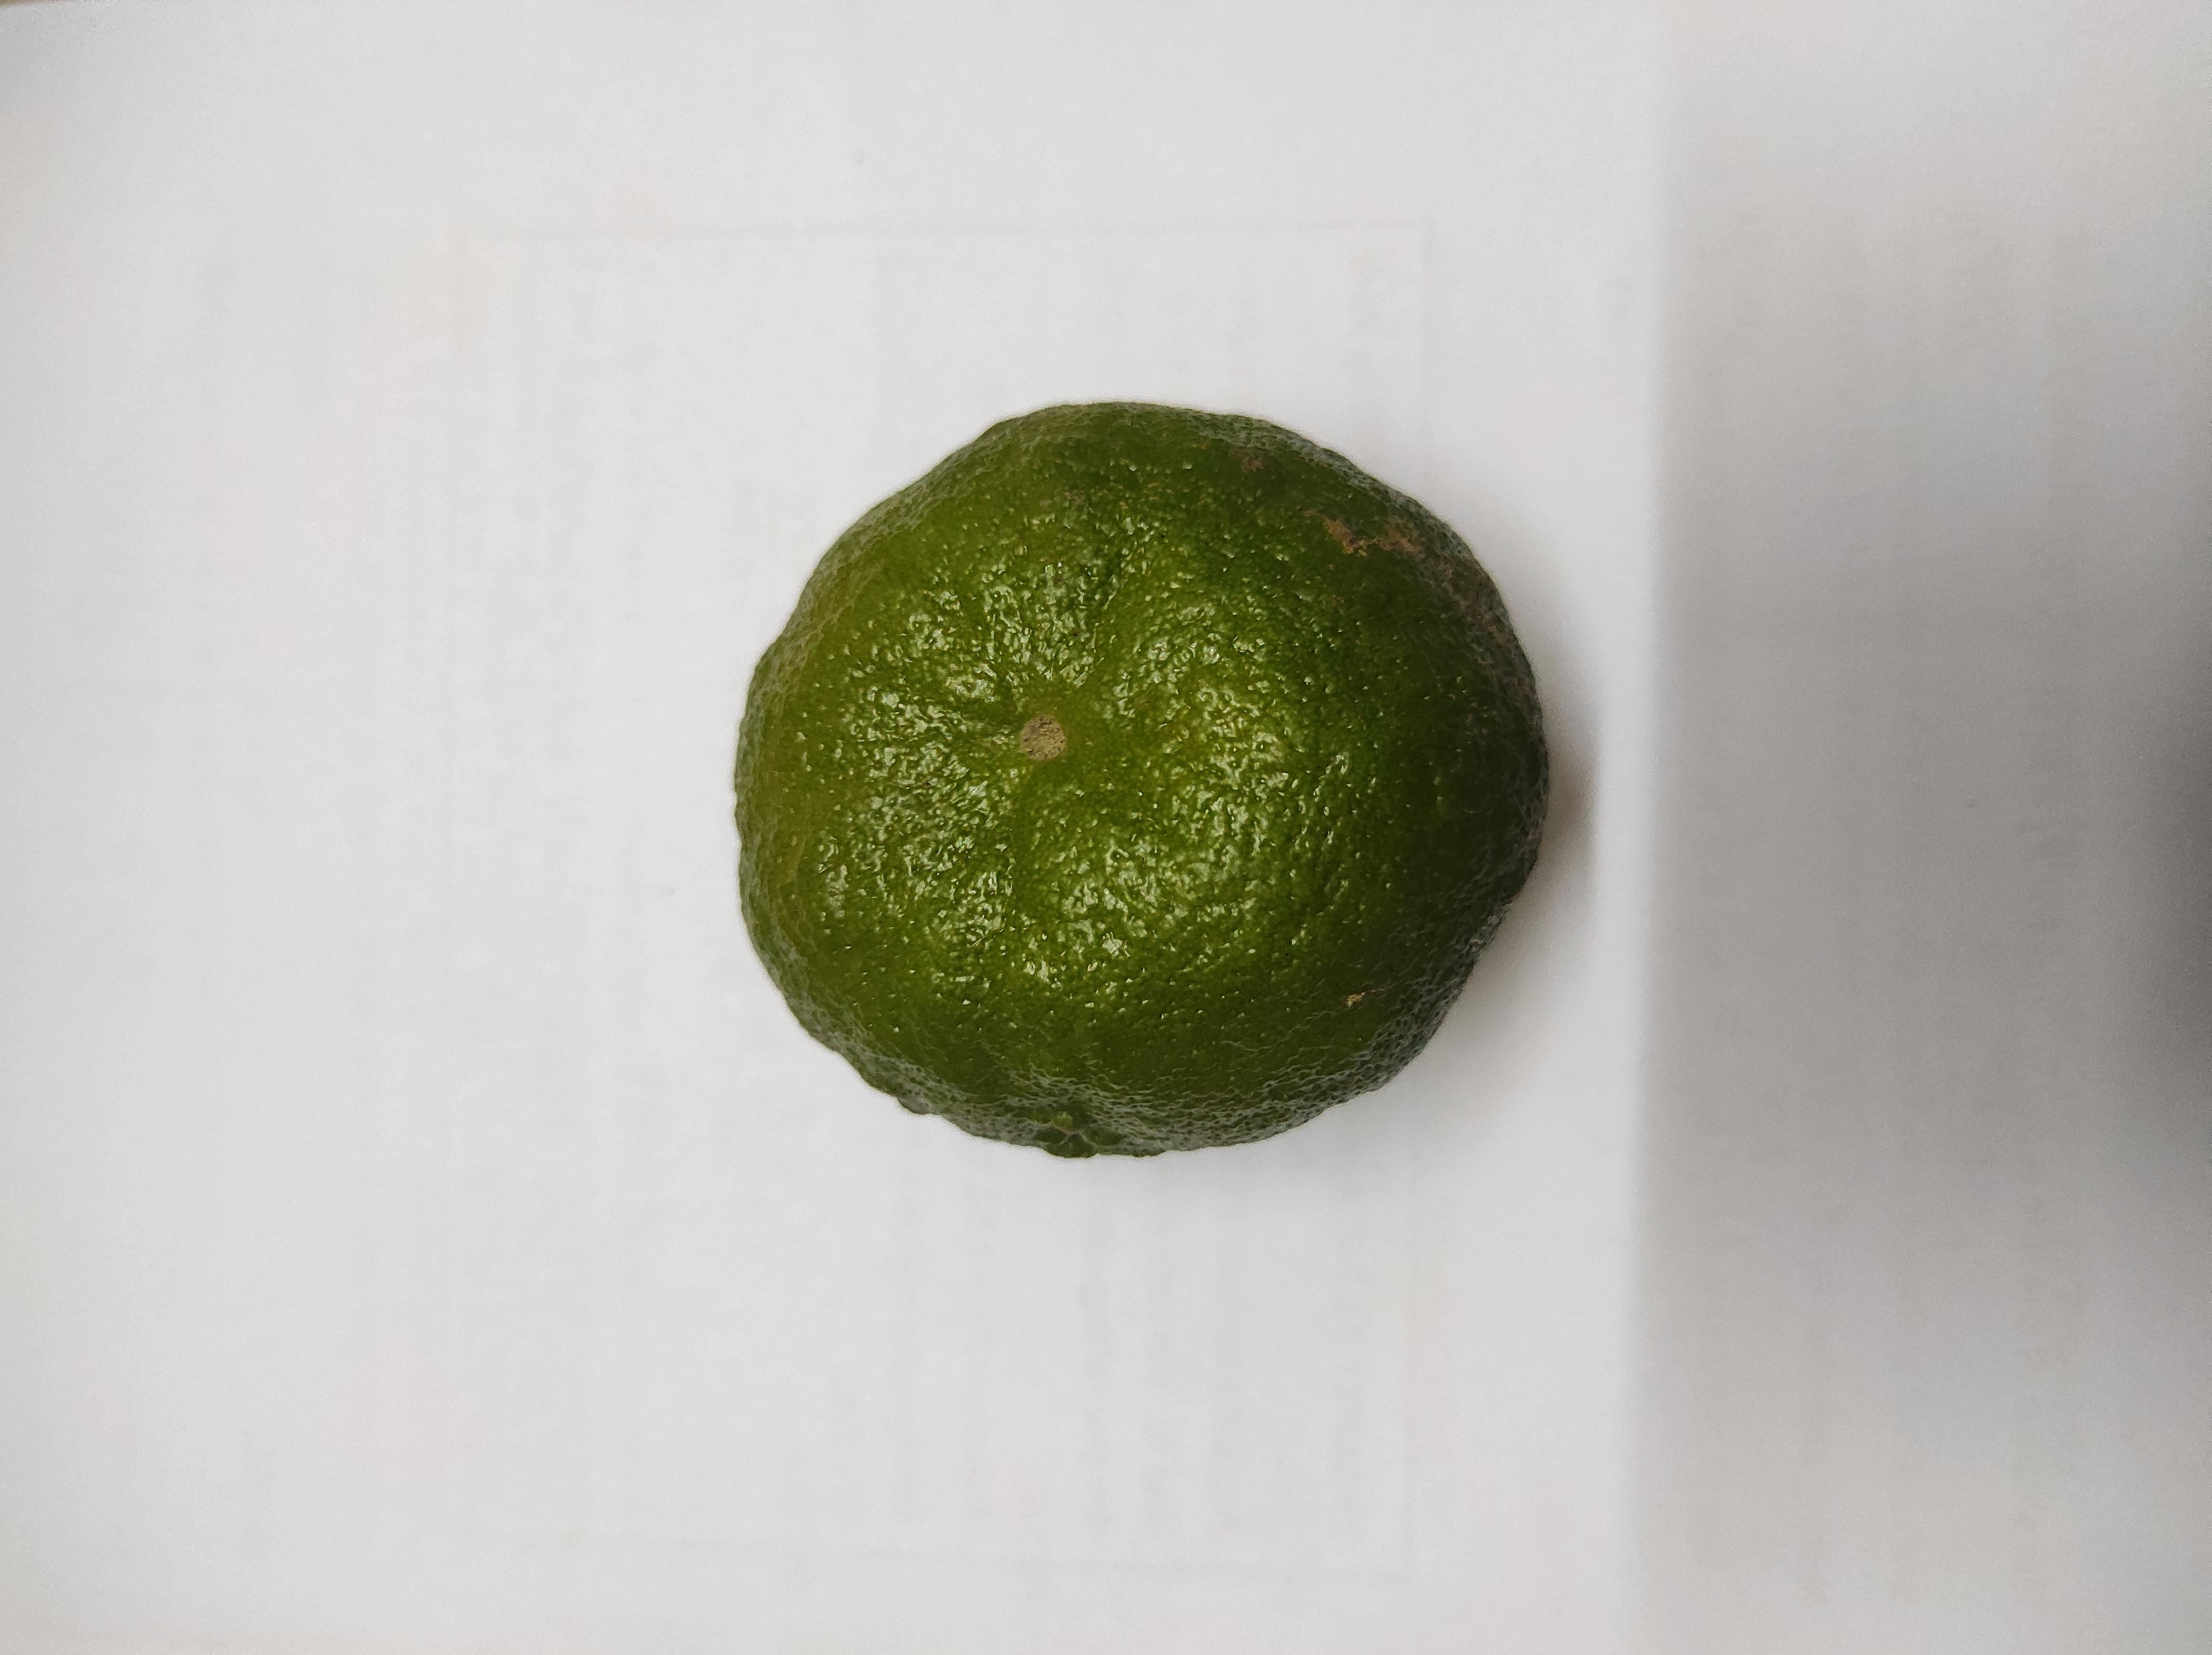Unripe: (739, 391, 1530, 1158)
